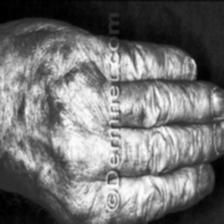Toxin: (38, 98, 50, 116)
